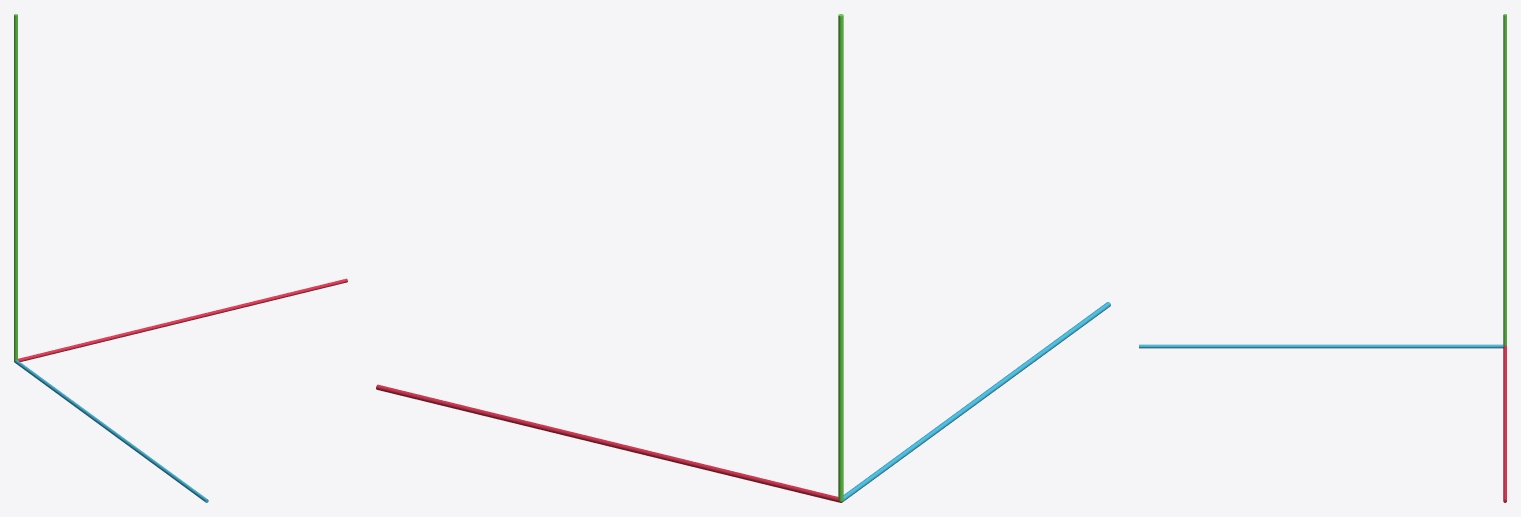
Rendered from axis.glb.
3 views of the same model, side by side, from view 1: azimuth 30°, elevation 25°; view 2: azimuth 150°, elevation 25°; view 3: azimuth 270°, elevation 25° (orthographic). The views are drawn at different scales.
Parts seen in each view (by area): view 1: 円柱.002, 円柱.001, 円柱; view 2: 円柱.001, 円柱.002, 円柱; view 3: 円柱, 円柱.001, 円柱.002.
Boxes of the visible parts, bbox=[...] form: 円柱.002: bbox=[18, 278, 347, 361]; 円柱.001: bbox=[14, 14, 17, 361]; 円柱: bbox=[14, 360, 208, 502]; 円柱.001: bbox=[838, 14, 843, 501]; 円柱.002: bbox=[376, 384, 839, 502]; 円柱: bbox=[843, 302, 1110, 501]; 円柱: bbox=[1139, 344, 1503, 348]; 円柱.001: bbox=[1503, 14, 1506, 345]; 円柱.002: bbox=[1503, 345, 1506, 502].
Size of the model in its own units: 0.5025 by 0.5025 by 0.5025.
